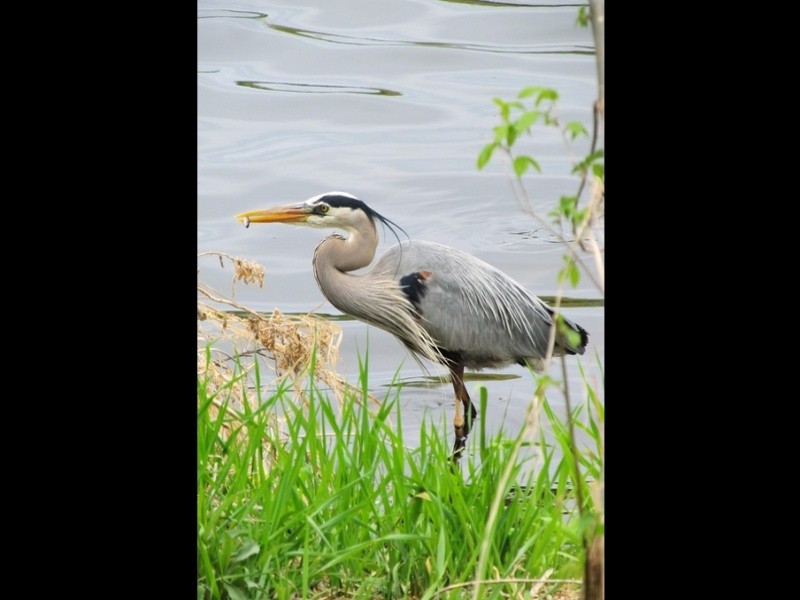heron: (234, 185, 588, 460)
